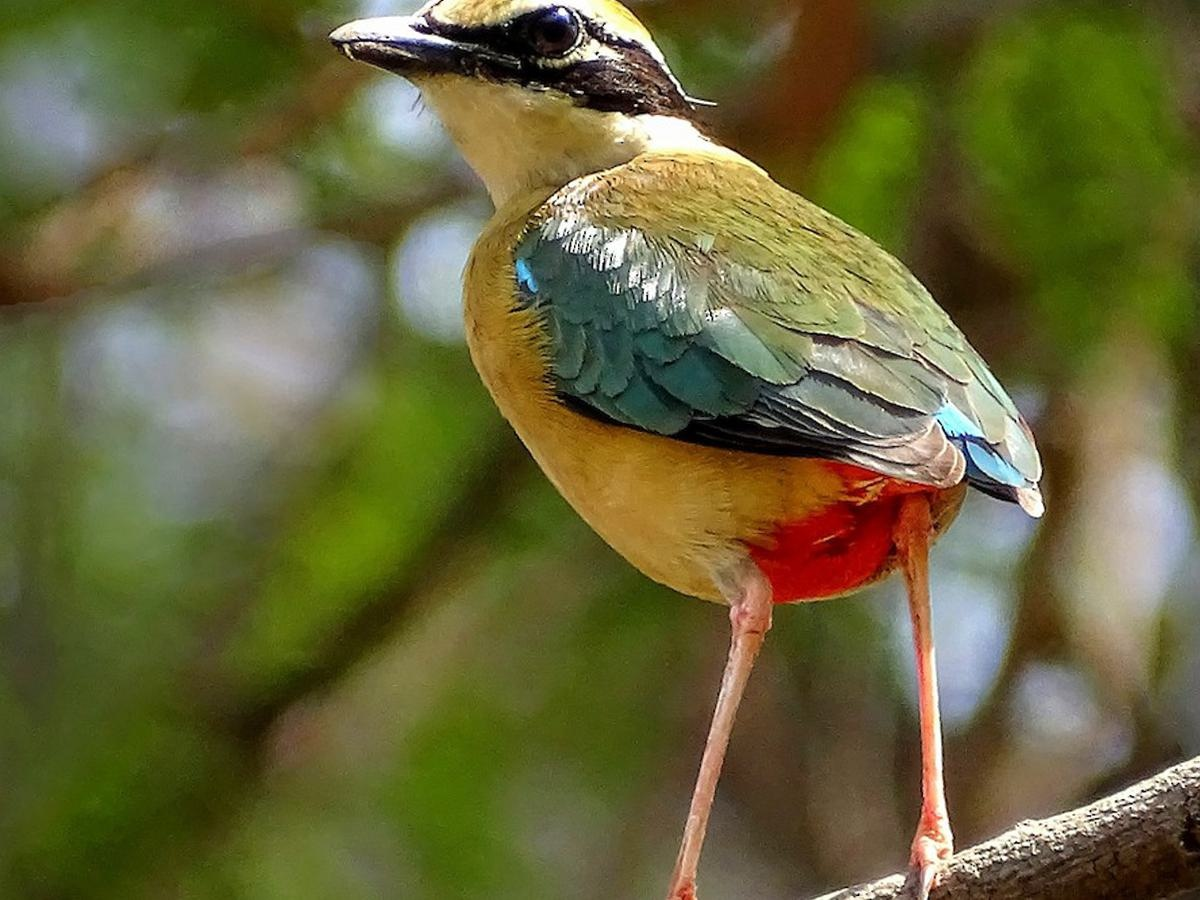pitta: (307, 1, 1063, 738)
